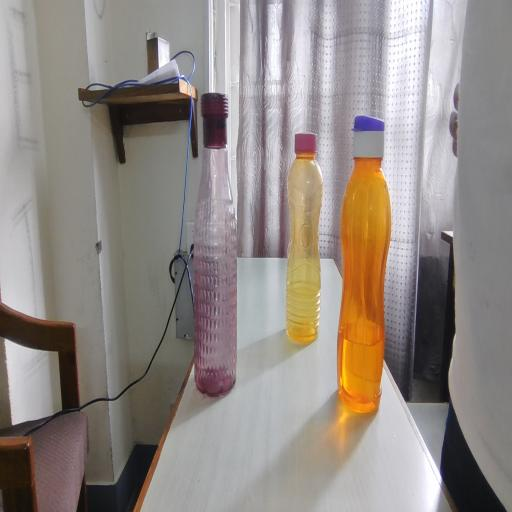Bottle: (192, 73, 244, 415), (346, 97, 396, 448), (288, 120, 328, 362)
